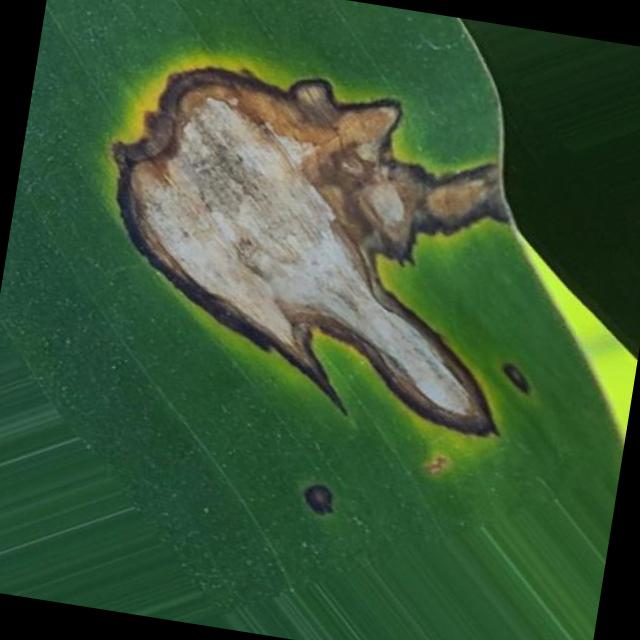Banana_Black_Sigatoka: (80, 10, 592, 478)
